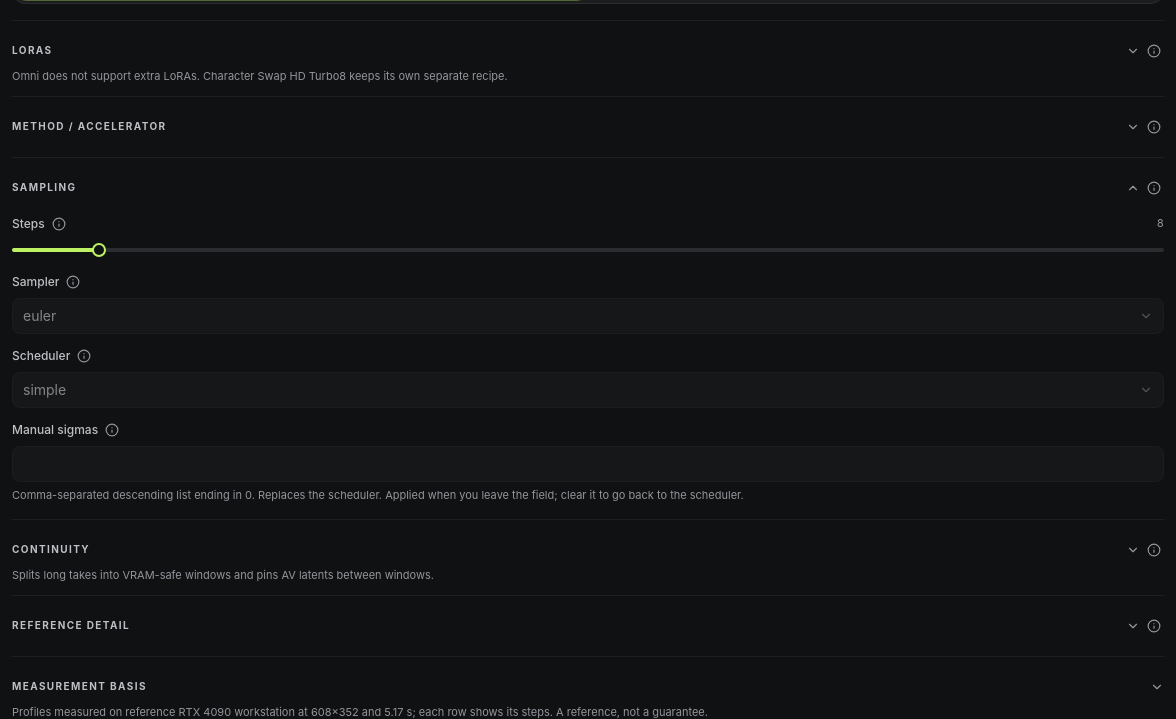
Test: Omni controls in en › locks the Omni core in the advanced settings
(page scrolled)
Click the button "Continuity" at x=51, y=549, box [12,532,1140,568]
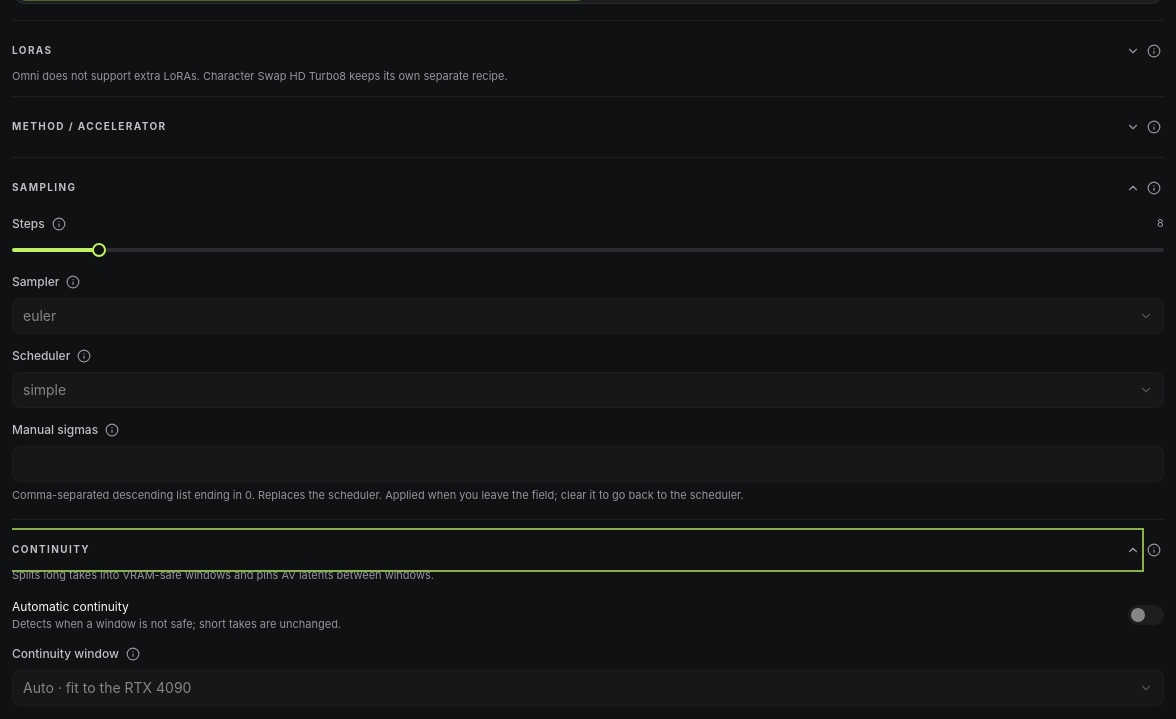
Check: the switch named "Automatic continuity" is disabled, box [1128,605,1164,625]
